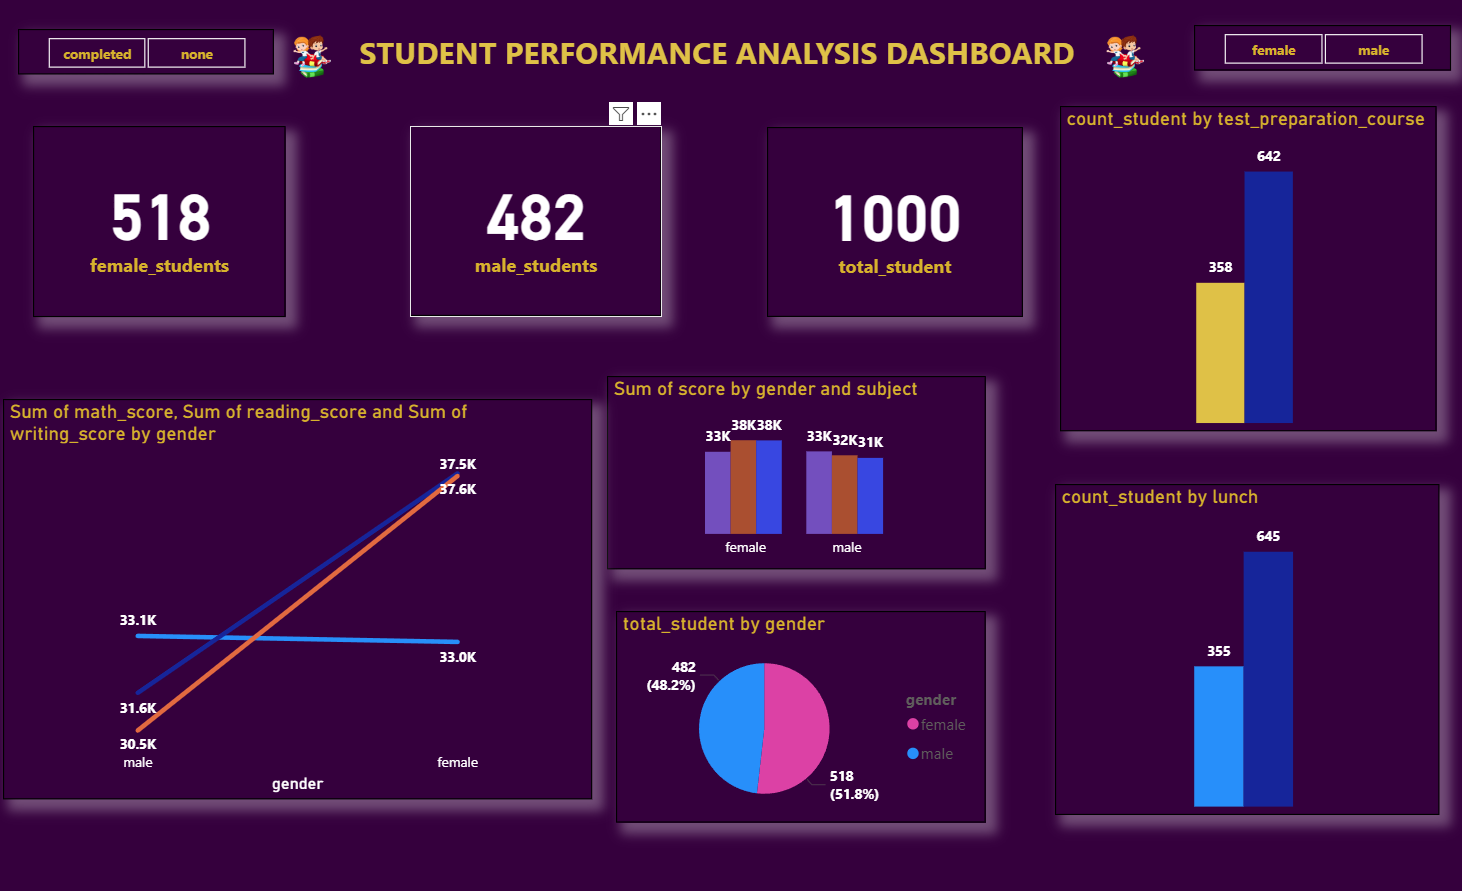

The dashboard page shown, as its layout file describes it:
{"tool":"powerbi","page":{"name":"Page 1","canvas":[1301,800],"ordinal":0},"visuals":[{"type":"card","fields":{"Values":["study_performance.female_students"]},"box":[42,119.9,222.3,168.1],"z":0},{"type":"card","fields":{"Values":["study_performance.male_students"]},"box":[373.8,119.9,221.5,167.2],"z":1000},{"type":"pieChart","fields":{"Category":["study_performance.gender"],"Y":["study_performance.total_student"]},"box":[555,546.2,324.8,185.6],"z":2000},{"type":"textbox","box":[264.4,30.6,758,55.1],"z":3000},{"type":"slicer","fields":{"Values":["study_performance.gender"]},"box":[1062.7,30.6,225.8,40.3],"z":4000},{"type":"clusteredColumnChart","fields":{"Category":["subjectscore.gender"],"Y":["Sum(subjectscore.score)"],"Series":["subjectscore.subject"]},"box":[547.1,339.6,332.6,169.8],"z":5000},{"type":"clusteredColumnChart","fields":{"Series":["study_performance.test_preparation_course"],"Y":["study_performance.count_student"]},"box":[945.1,102,330.5,285.7],"z":6000},{"type":"slicer","fields":{"Values":["study_performance.test_preparation_course"]},"box":[28.9,34.1,225,40.3],"z":7000},{"type":"clusteredColumnChart","fields":{"Y":["study_performance.count_student"],"Series":["study_performance.lunch"]},"box":[941,434.2,337.9,290.6],"z":8000},{"type":"card","fields":{"Values":["study_performance.total_student"]},"box":[687.1,120.8,225,167.2],"z":9000},{"type":"lineChart","fields":{"Category":["study_performance.gender"],"Y":["Sum(study_performance.math_score)","Sum(study_performance.reading_score)","Sum(study_performance.writing_score)"]},"box":[15.8,359.9,518,351.9],"z":10000},{"type":"image","box":[968.1,34.1,68.3,48.1],"z":11000},{"type":"image","box":[253.8,34.1,66.5,48.1],"z":12000}]}

Visuals, with their boxes in screenshot pixels (x1, y1, x2, y2), scaled from the page's 1301x800 canvas onto the 1462x891 screenshot:
card - study_performance.female_students: box=[47, 134, 297, 321]
card - study_performance.male_students: box=[420, 134, 669, 320]
pieChart - study_performance.gender x study_performance.total_student: box=[624, 608, 989, 815]
textbox: box=[297, 34, 1149, 95]
slicer - study_performance.gender: box=[1194, 34, 1448, 79]
clusteredColumnChart - subjectscore.gender x Sum(subjectscore.score): box=[615, 378, 989, 567]
clusteredColumnChart - study_performance.test_preparation_course x study_performance.count_student: box=[1062, 114, 1433, 432]
slicer - study_performance.test_preparation_course: box=[32, 38, 285, 83]
clusteredColumnChart - study_performance.count_student x study_performance.lunch: box=[1057, 484, 1437, 807]
card - study_performance.total_student: box=[772, 135, 1025, 321]
lineChart - study_performance.gender x Sum(study_performance.math_score): box=[18, 401, 600, 793]
image: box=[1088, 38, 1165, 92]
image: box=[285, 38, 360, 92]
